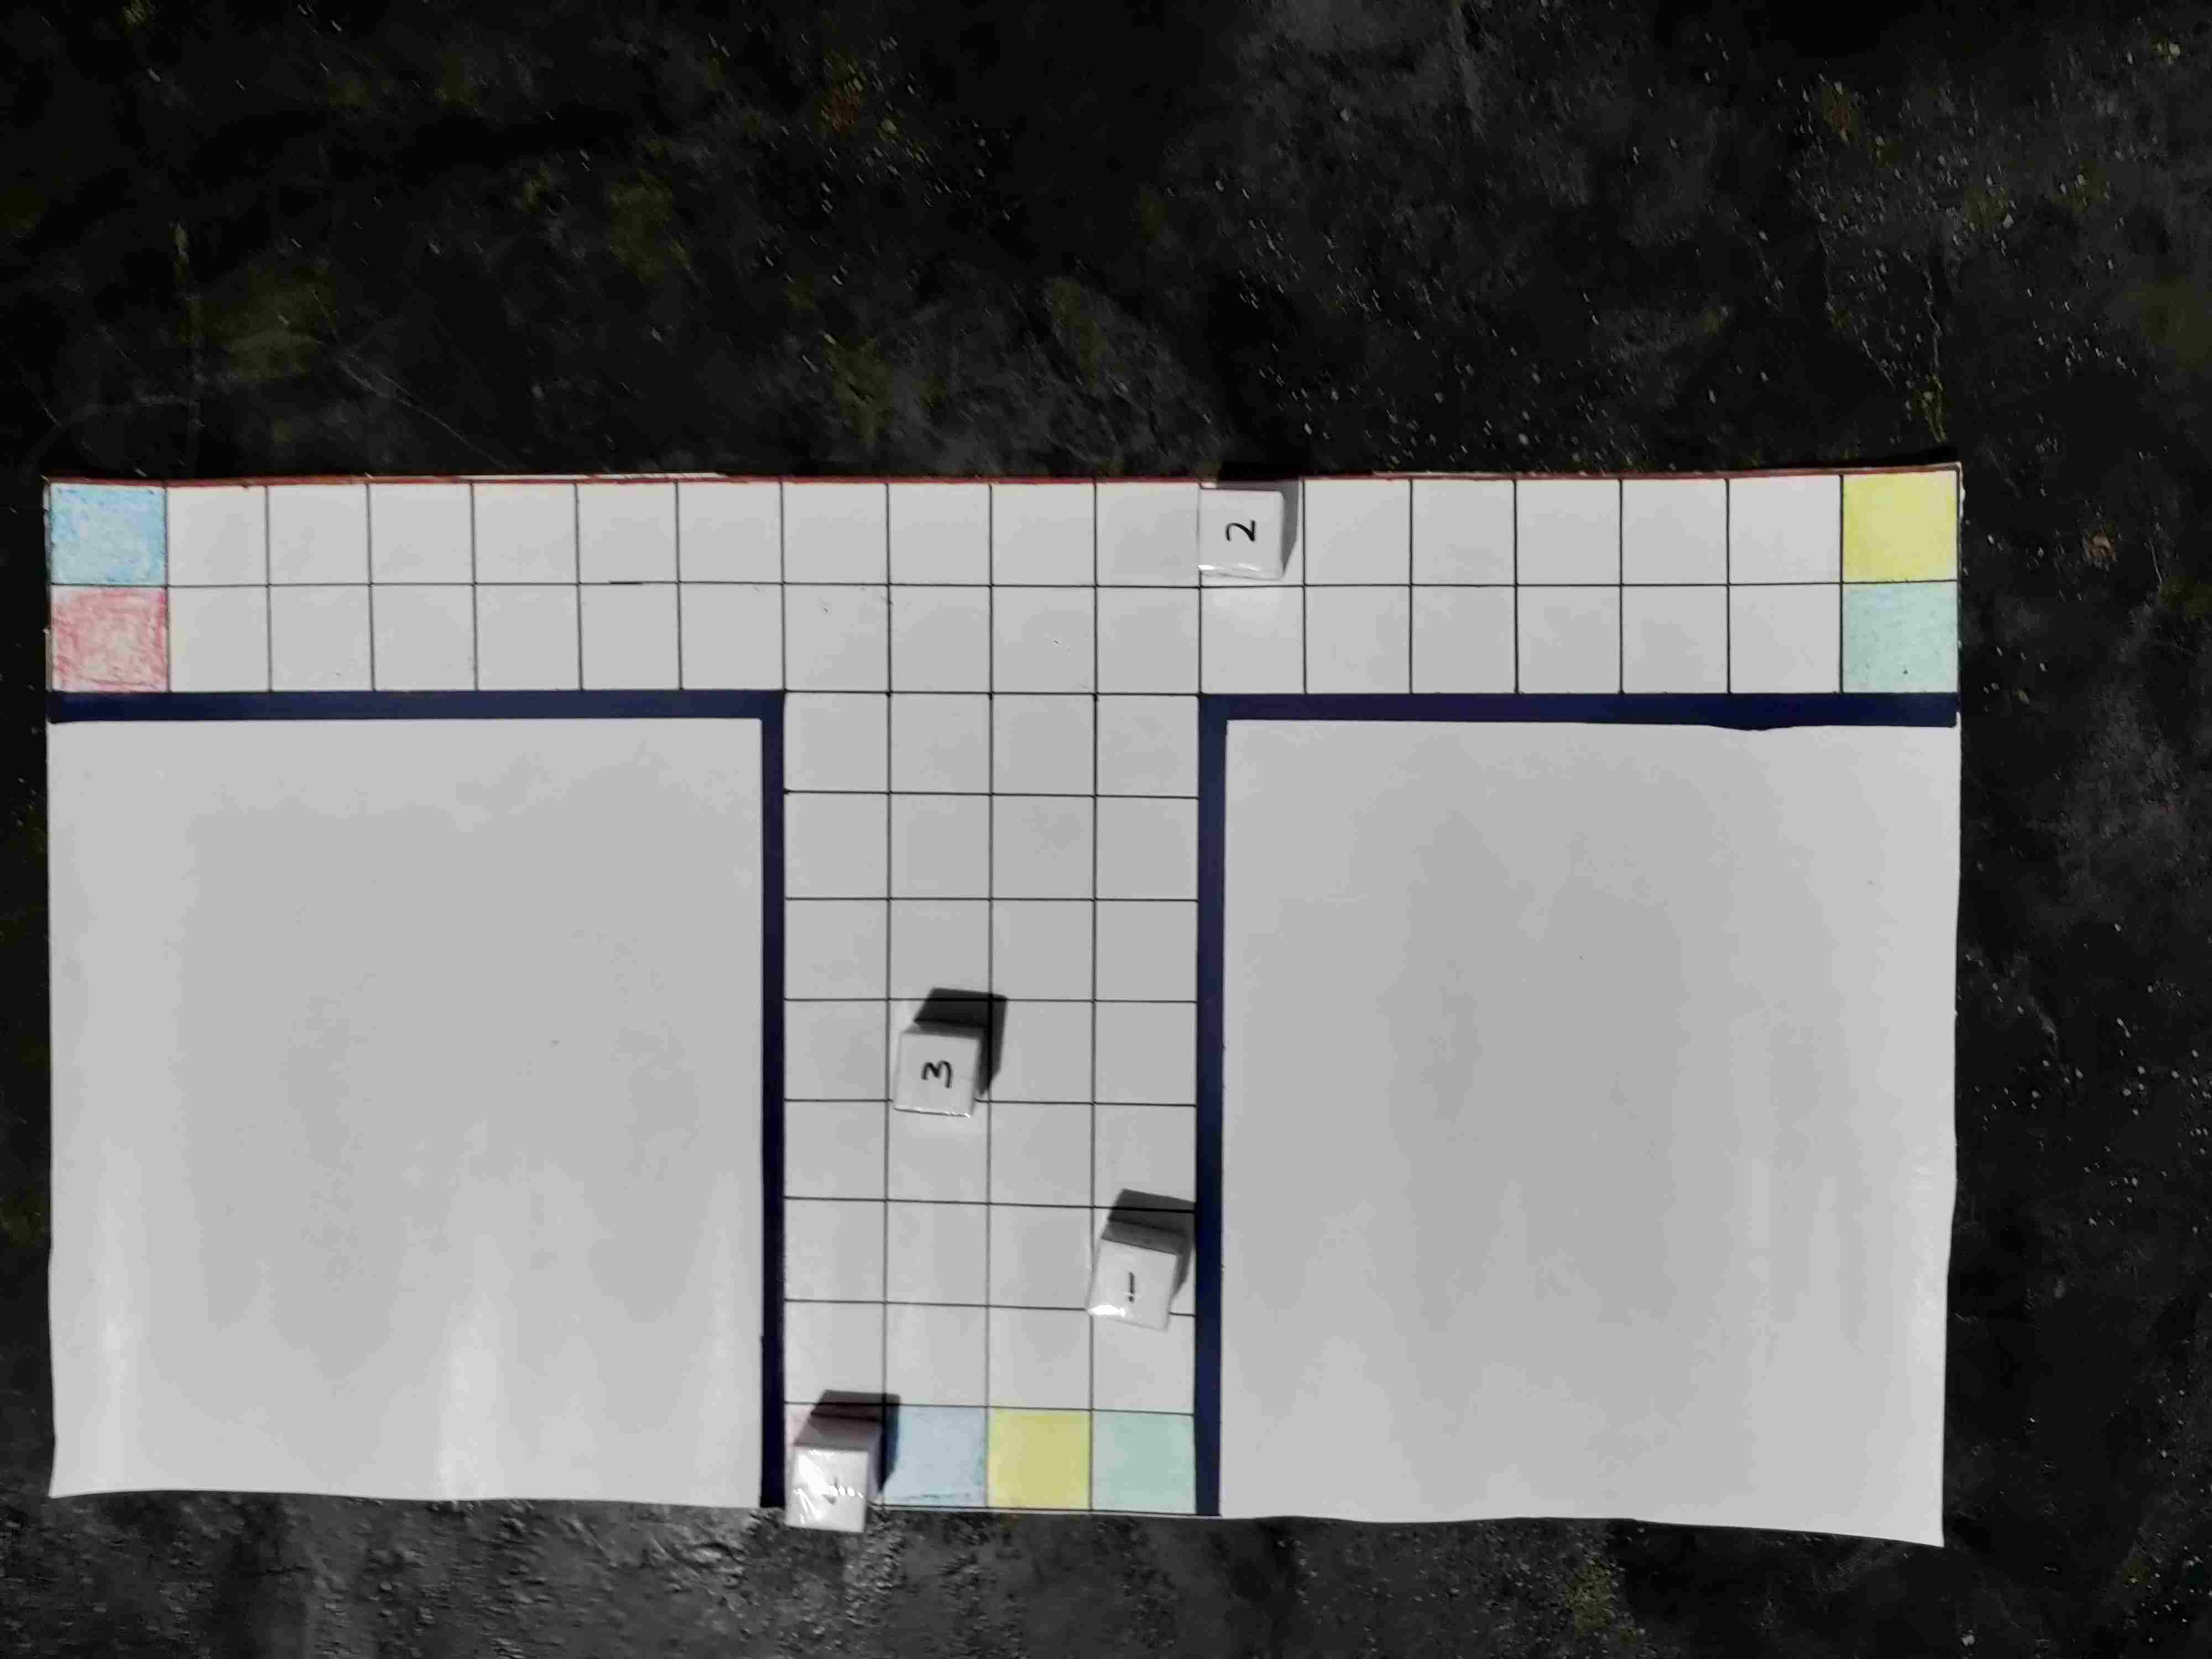arena: (44, 474, 1970, 1521)
bot: (1085, 1232, 1181, 1321), (1197, 488, 1284, 577), (784, 1448, 869, 1539), (894, 1026, 977, 1114)
